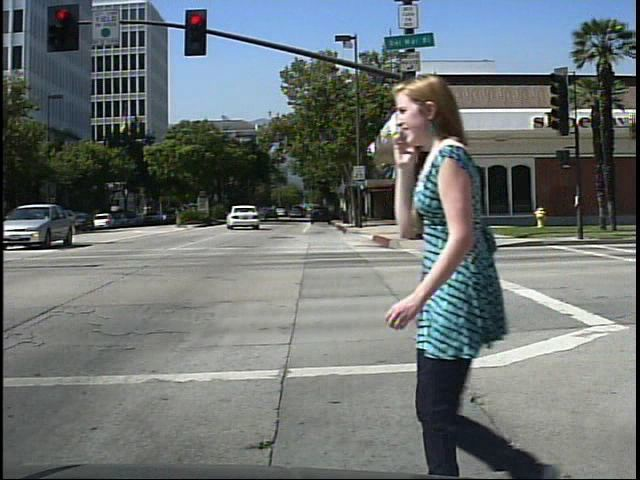person: (365, 69, 571, 479)
